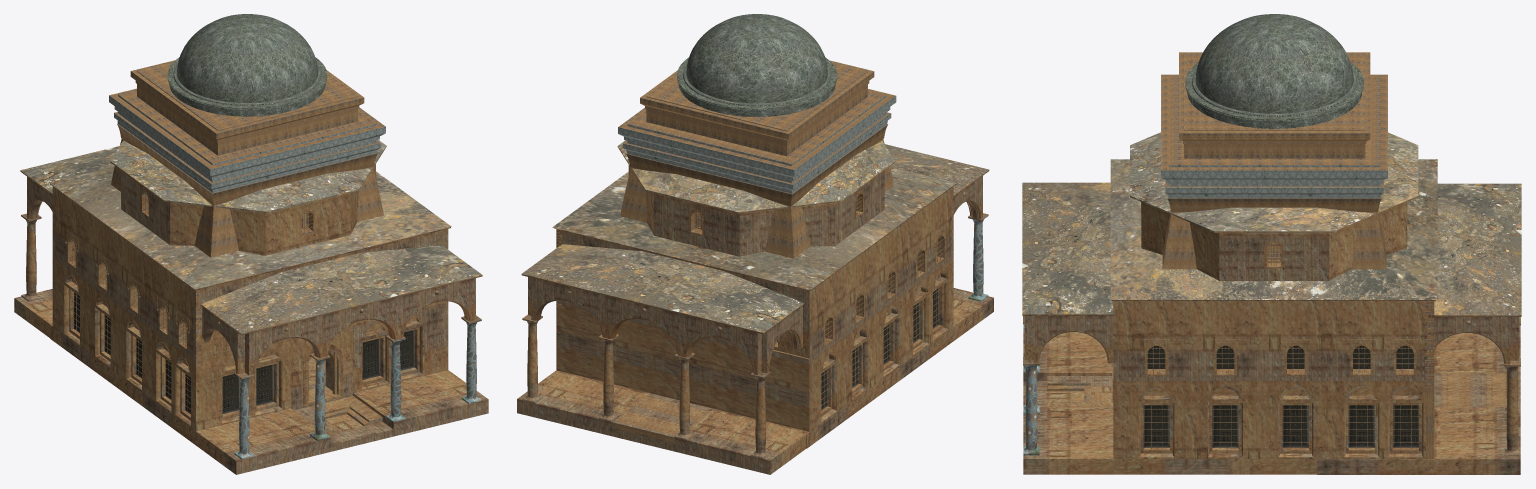
File: build9a.gltf
3 renders of one model, left to right at view 1: azimuth 30°, elevation 25°; view 2: azimuth 150°, elevation 25°; view 3: azimuth 270°, elevation 25°, orthographic. The views are drawn at different scales.
Parts seen in each view (by area): view 1: build9a; view 2: build9a; view 3: build9a.
Boxes of the visible parts, left/top/right/bottom form: build9a: left=14, top=14, right=488, bottom=474; build9a: left=517, top=14, right=993, bottom=474; build9a: left=1022, top=14, right=1521, bottom=474.
Size of the model in its own units: 15.33 by 19.38 by 23.03.
5 materials, 5 textured.
